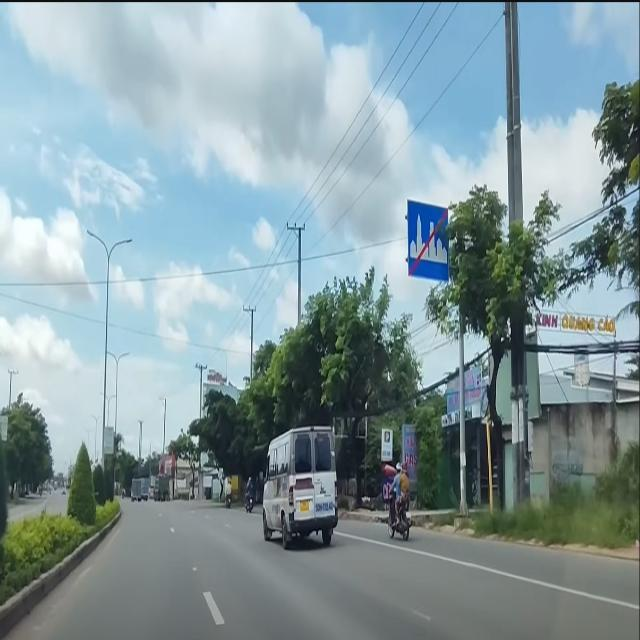Bien hieu lenh het khu dong dan cu: (404, 195, 454, 285)
